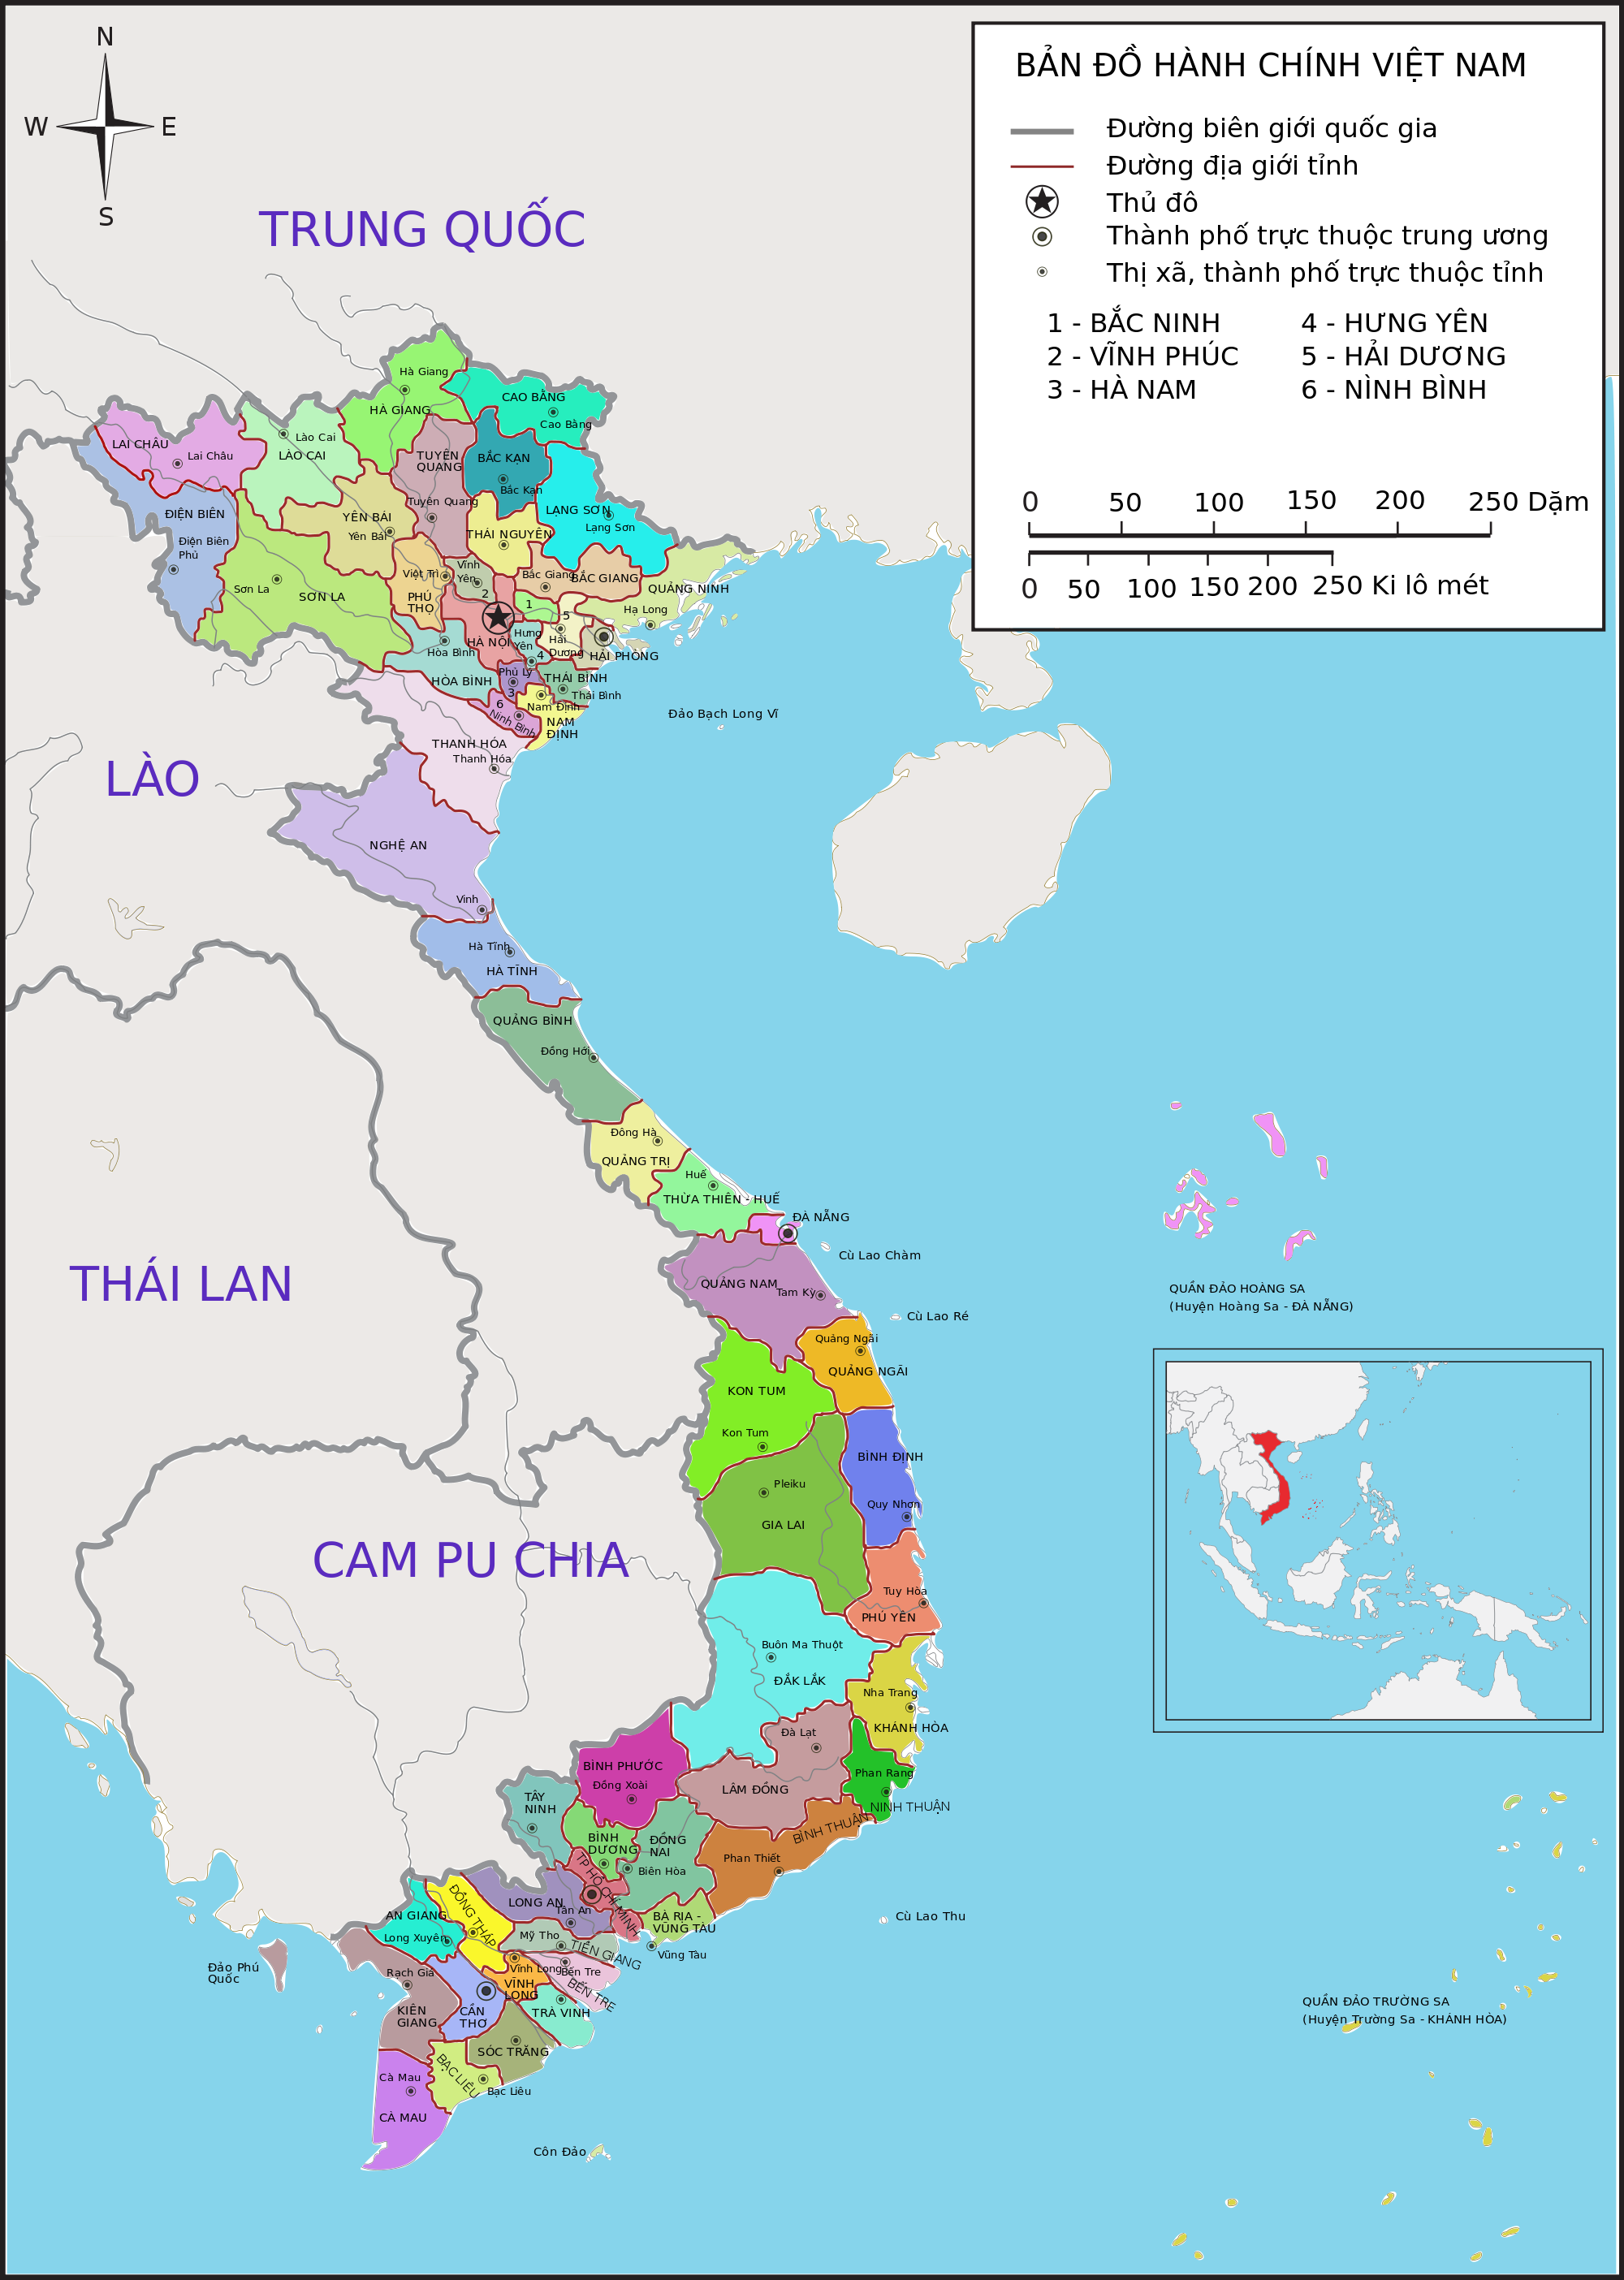Island: (1146, 1779, 1624, 2280), (1114, 1062, 1415, 1317)
